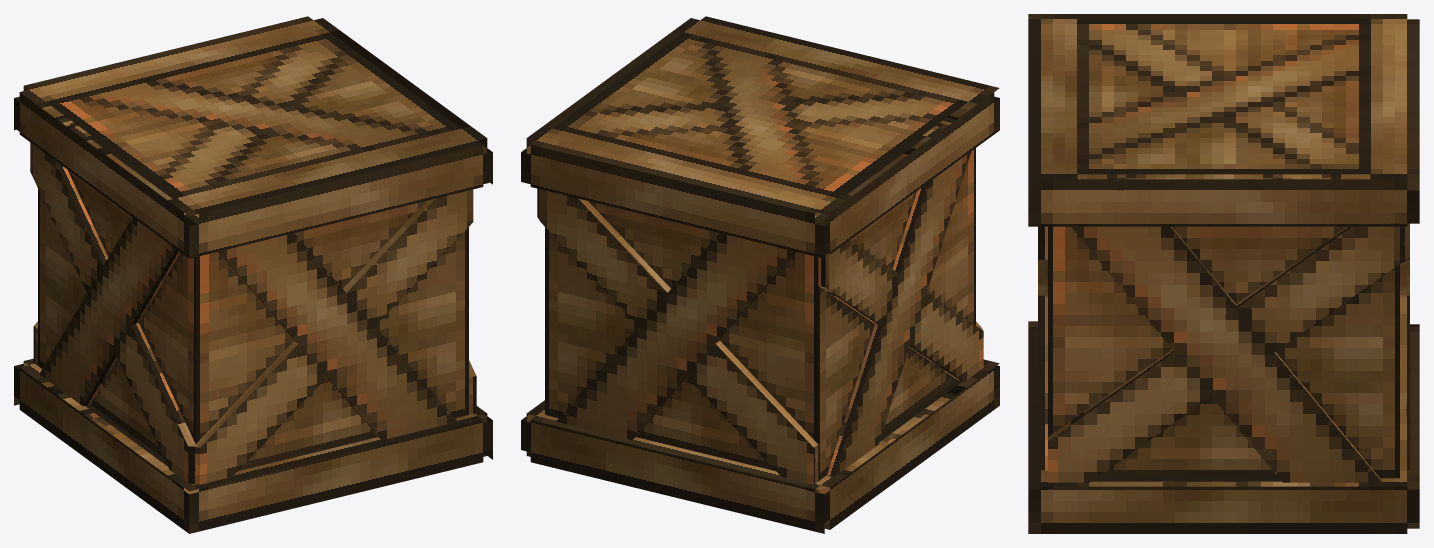
File: crate_hollow.obj
3 views of the same model, side by side, from view 1: azimuth 30°, elevation 25°; view 2: azimuth 150°, elevation 25°; view 3: azimuth 270°, elevation 25° (orthographic). The views are drawn at different scales.
Visible parts, largest first — view 1: Cube, Plane.001; view 2: Cube, Plane.001; view 3: Cube, Plane.001.
Boxes of the visible parts, bbox=[...] form: Cube: bbox=[14, 16, 492, 533]; Plane.001: bbox=[30, 120, 476, 484]; Cube: bbox=[521, 16, 999, 533]; Plane.001: bbox=[537, 120, 983, 484]; Cube: bbox=[1028, 14, 1419, 533]; Plane.001: bbox=[1038, 223, 1409, 482].
Size of the model in its own units: 1.5 by 1.5 by 1.5.
